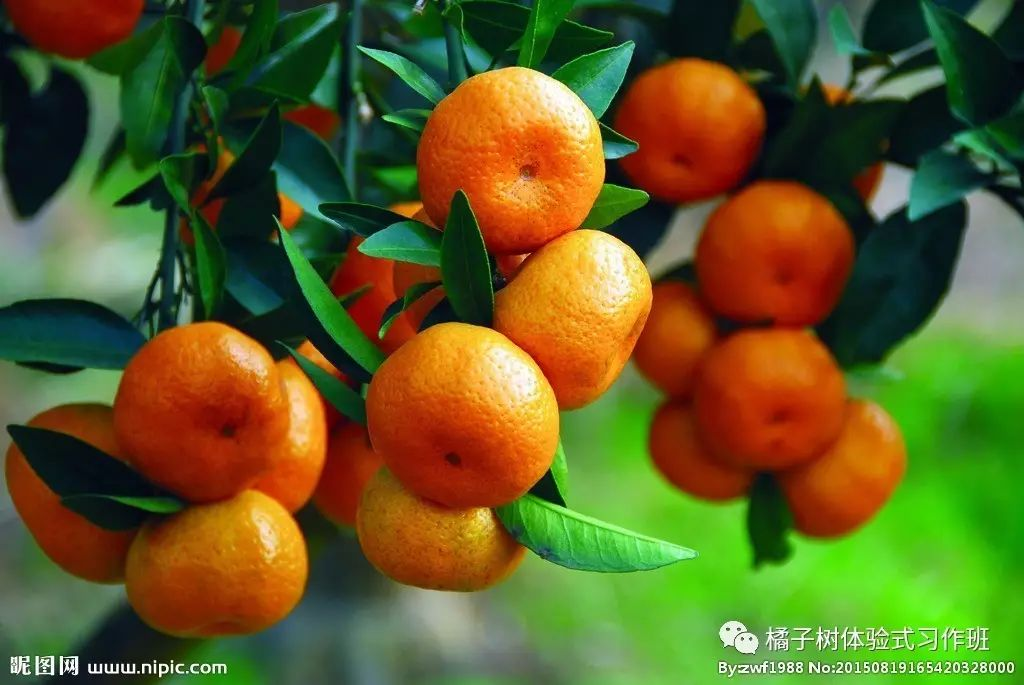orange: (367, 319, 561, 512), (417, 66, 606, 256), (115, 320, 289, 501), (8, 402, 174, 586), (361, 418, 531, 590), (492, 227, 650, 409), (130, 493, 308, 634), (327, 200, 481, 358), (692, 181, 849, 330), (610, 57, 767, 201), (693, 324, 846, 469), (218, 352, 330, 519), (781, 393, 903, 541), (634, 258, 743, 390), (647, 383, 765, 503), (11, 1, 153, 62)
